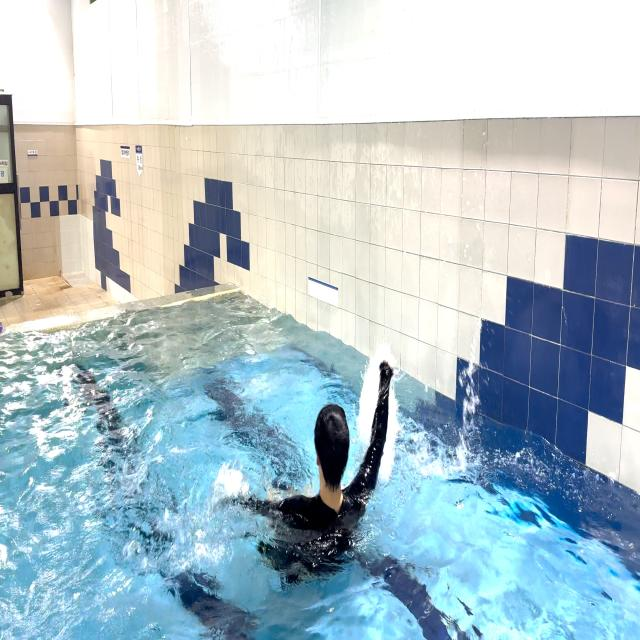Swimming: (202, 331, 420, 566)
